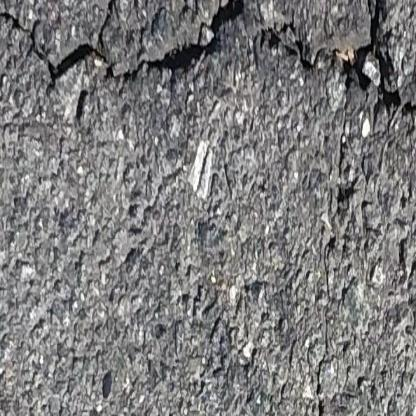Cracks: (0, 0, 416, 164), (293, 231, 359, 416)
